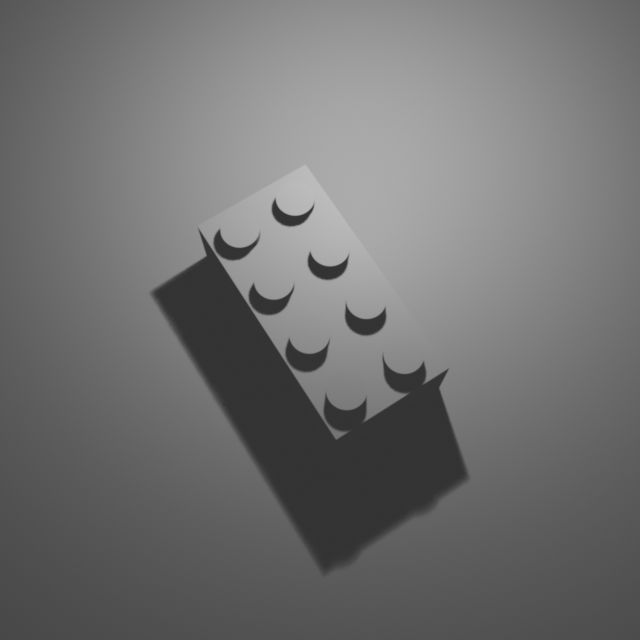lego_2x4: (196, 158, 451, 454)
